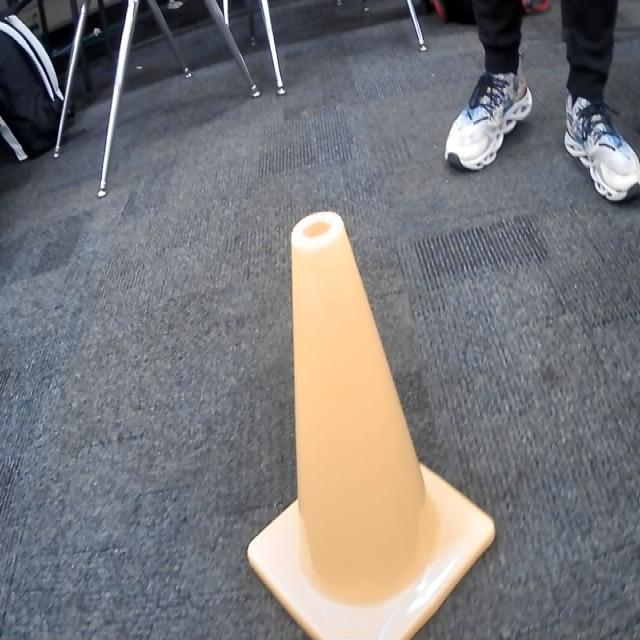cone: (245, 206, 498, 638)
